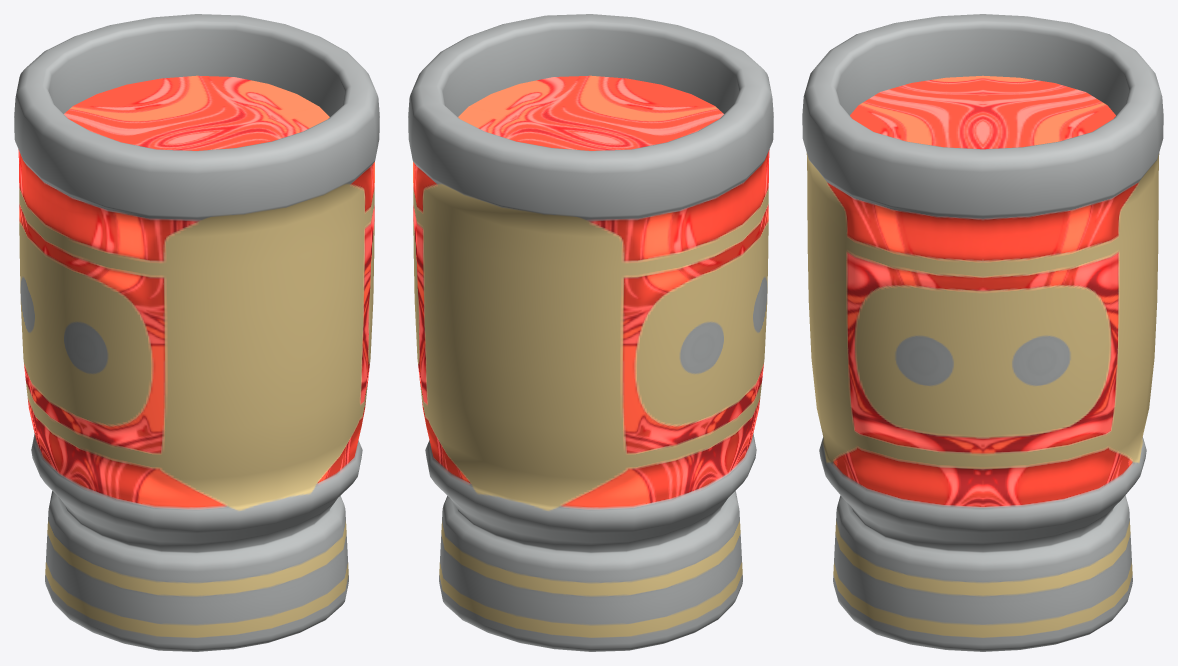
Rendered from BarCocktails01_1.FBX.
The picture shows the model from 3 angles, left to right: view 1: azimuth 30°, elevation 25°; view 2: azimuth 150°, elevation 25°; view 3: azimuth 270°, elevation 25°; orthographic projection.
Visible parts, largest first — view 1: BarCocktails01_1; view 2: BarCocktails01_1; view 3: BarCocktails01_1.
Boxes of the visible parts, left/top/right/bottom form: BarCocktails01_1: left=14, top=14, right=379, bottom=651; BarCocktails01_1: left=408, top=14, right=773, bottom=651; BarCocktails01_1: left=802, top=14, right=1163, bottom=651.
Size of what is drawn, in the model's own units: 0.1001 by 0.1552 by 0.1001.
